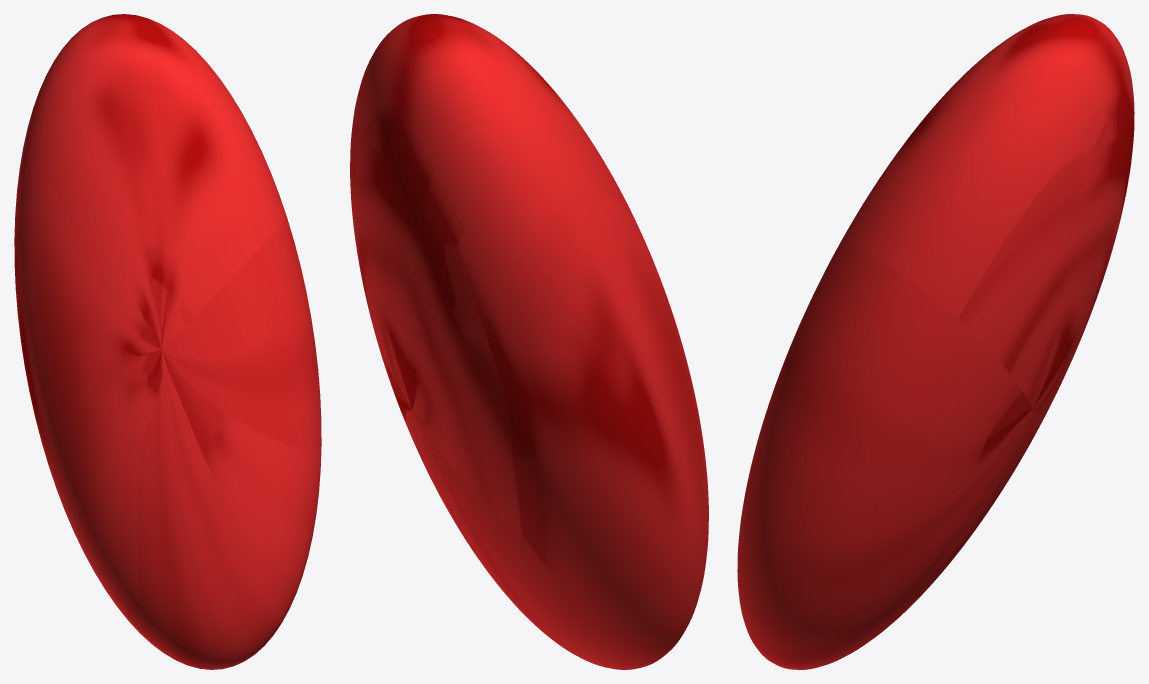
File: Ballanimations2.fbx
3 renders of one model, left to right at view 1: azimuth 30°, elevation 25°; view 2: azimuth 150°, elevation 25°; view 3: azimuth 270°, elevation 25°, orthographic. The views are drawn at different scales.
Visible parts, largest first — view 1: pSphere1; view 2: pSphere1; view 3: pSphere1.
Boxes of the visible parts, x1,y1,x2,y2 form: pSphere1: (14, 14, 321, 669); pSphere1: (350, 14, 708, 669); pSphere1: (737, 14, 1134, 669).
Size of the model in its own units: 38.69 by 87.73 by 48.04.
Materials: 1 (1 with a texture image).
